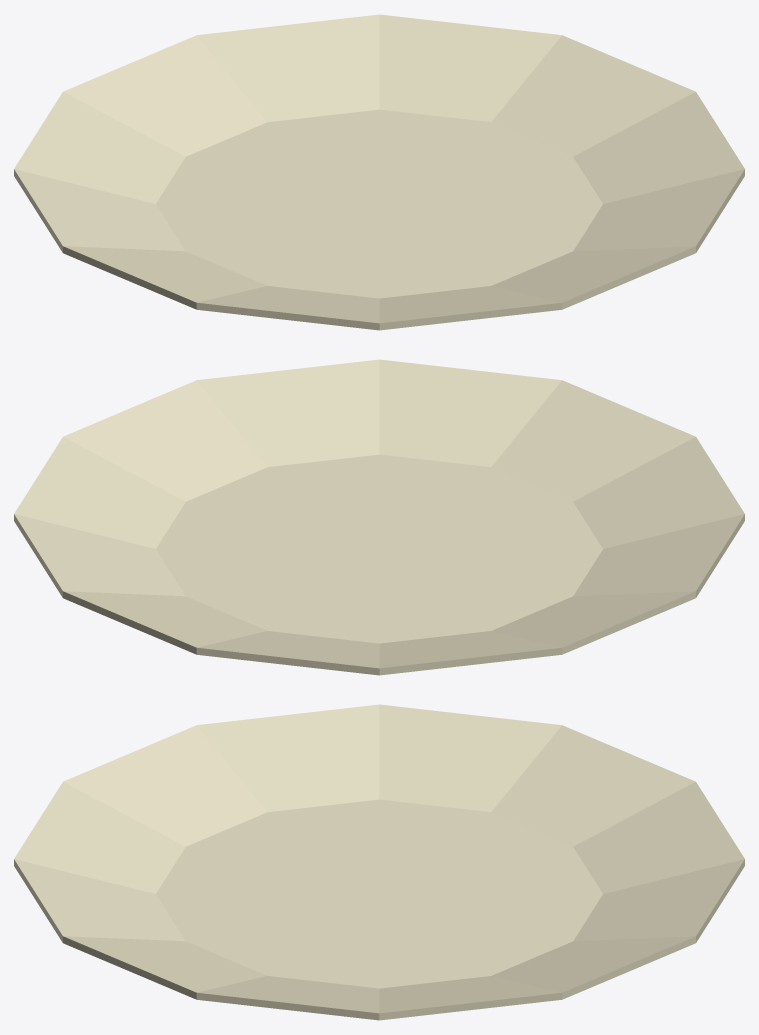
File: PlateType1.fbx
The picture shows the model from 3 angles, top to bottom: view 1: azimuth 30°, elevation 25°; view 2: azimuth 150°, elevation 25°; view 3: azimuth 270°, elevation 25°; orthographic projection.
Parts seen in each view (by area): view 1: Plate; view 2: Plate; view 3: Plate.
Part boxes in pixels (<box>): Plate: <box>14,14,744,330</box>; Plate: <box>14,359,744,675</box>; Plate: <box>14,704,744,1020</box>.
Bounding box in the file's own units: 200 × 18.1 × 200.
